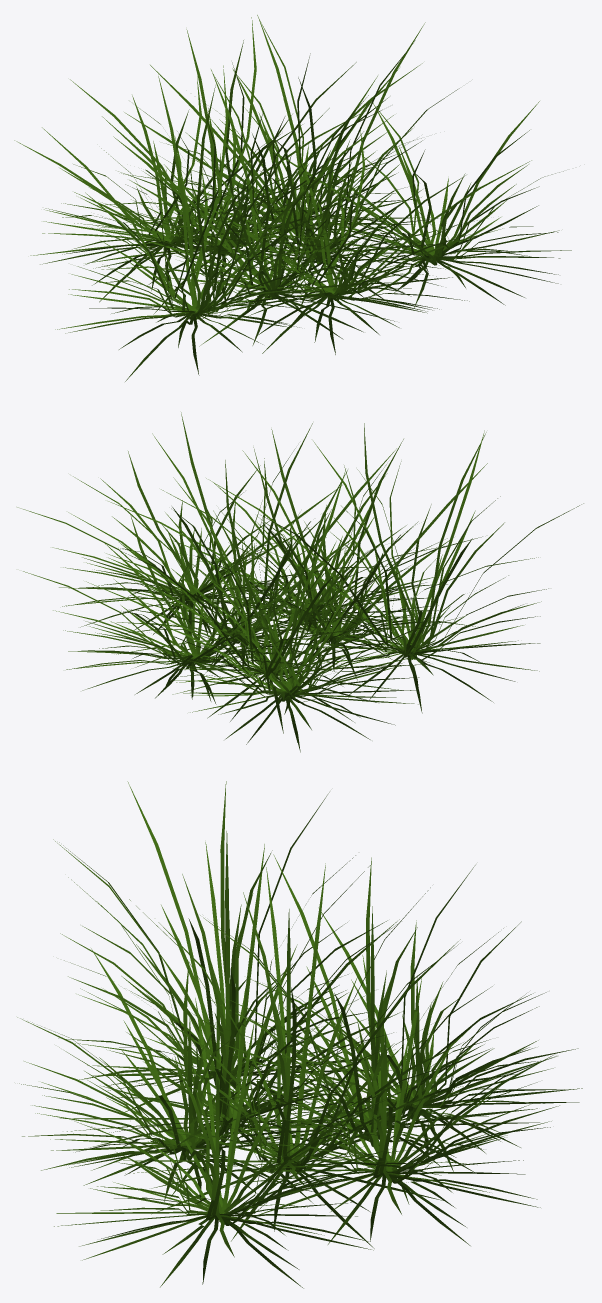
The model's file is 3d_grass.glb.
3 renders of one model, top to bottom at view 1: azimuth 30°, elevation 25°; view 2: azimuth 150°, elevation 25°; view 3: azimuth 270°, elevation 25°, orthographic. The views are drawn at different scales.
Visible parts, largest first — view 1: Object_2; view 2: Object_2; view 3: Object_2.
Part boxes in pixels (x1,y1,x2,y2): Object_2: (14, 15, 571, 381); Object_2: (17, 412, 583, 752); Object_2: (17, 781, 582, 1288).
Size of the model in its own units: 3.11 by 1.27 by 2.38.
